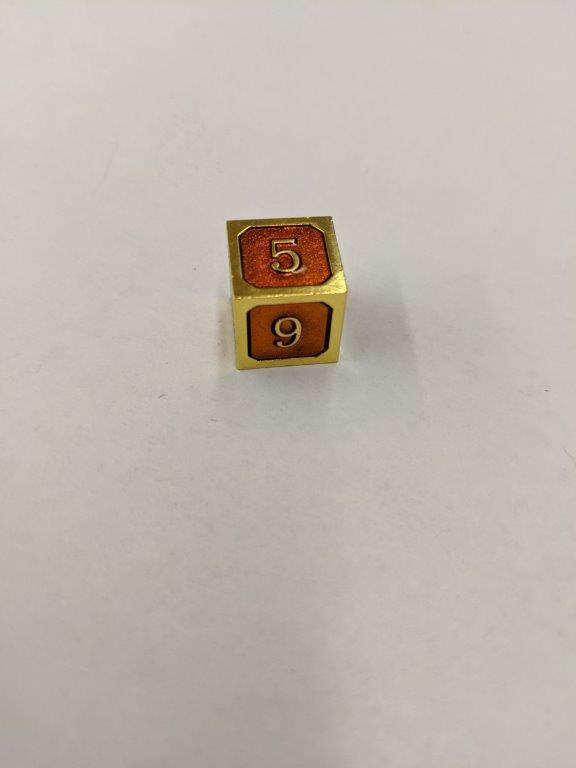d6-5: (222, 213, 348, 373)
